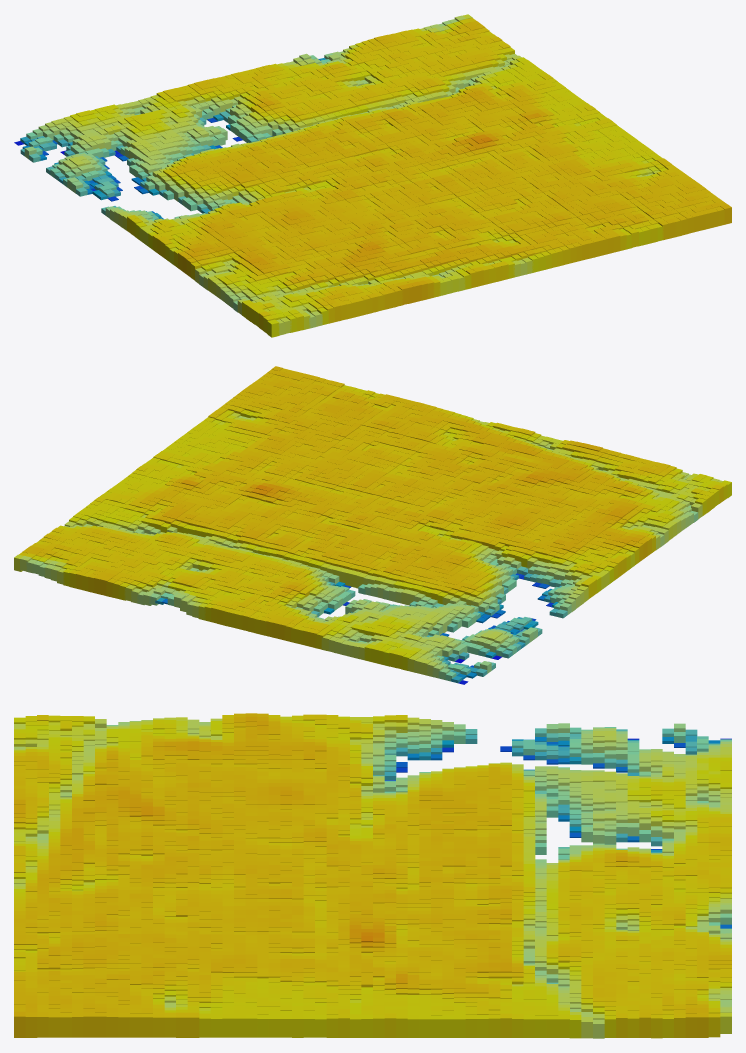
File: population.glb
The picture shows the model from 3 angles, top to bottom: view 1: azimuth 30°, elevation 25°; view 2: azimuth 150°, elevation 25°; view 3: azimuth 270°, elevation 25°; orthographic projection. The views are drawn at different scales.
Parts seen in each view (by area): view 1: population; view 2: population; view 3: population.
Part boxes in pixels (bbox=[...]): population: bbox=[14, 14, 731, 337]; population: bbox=[14, 366, 731, 684]; population: bbox=[14, 713, 731, 1038].
Bounding box in the file's own units: 6201 × 248 × 6154.
